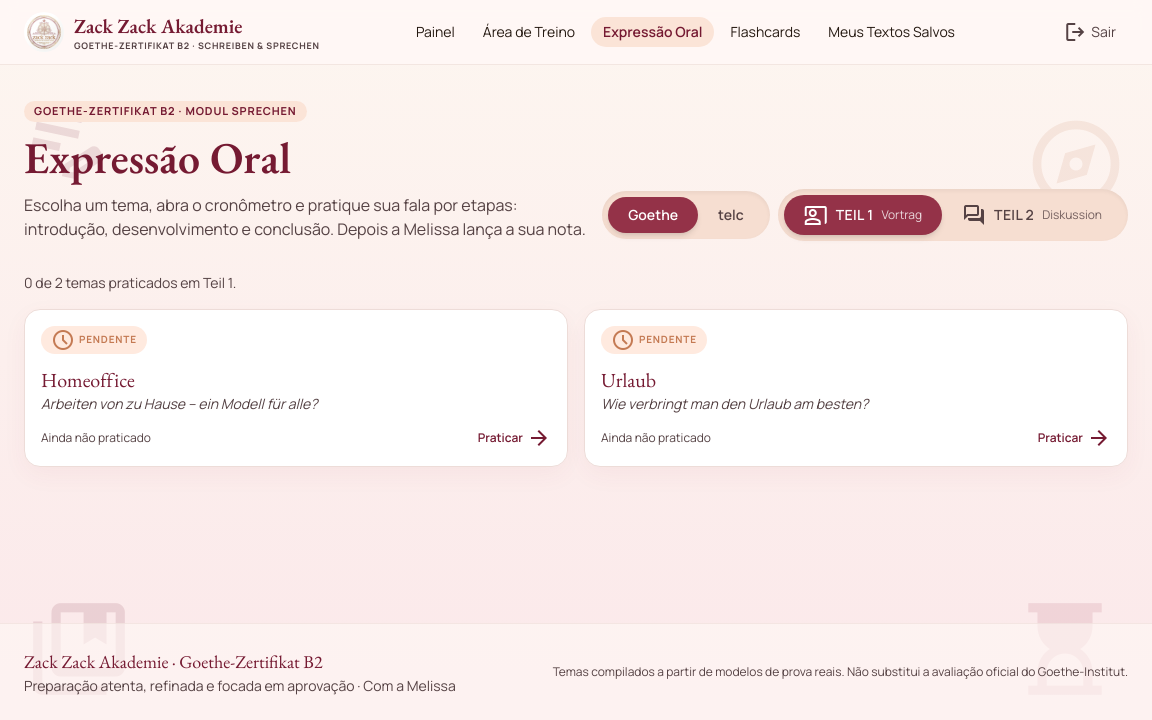
it: Sprechen › shows the Teil 2 topics and the score history of a topic
Click the radio button labelled "Teil 2 Diskussion" at point(1032, 214), box [942,194,1122,234]
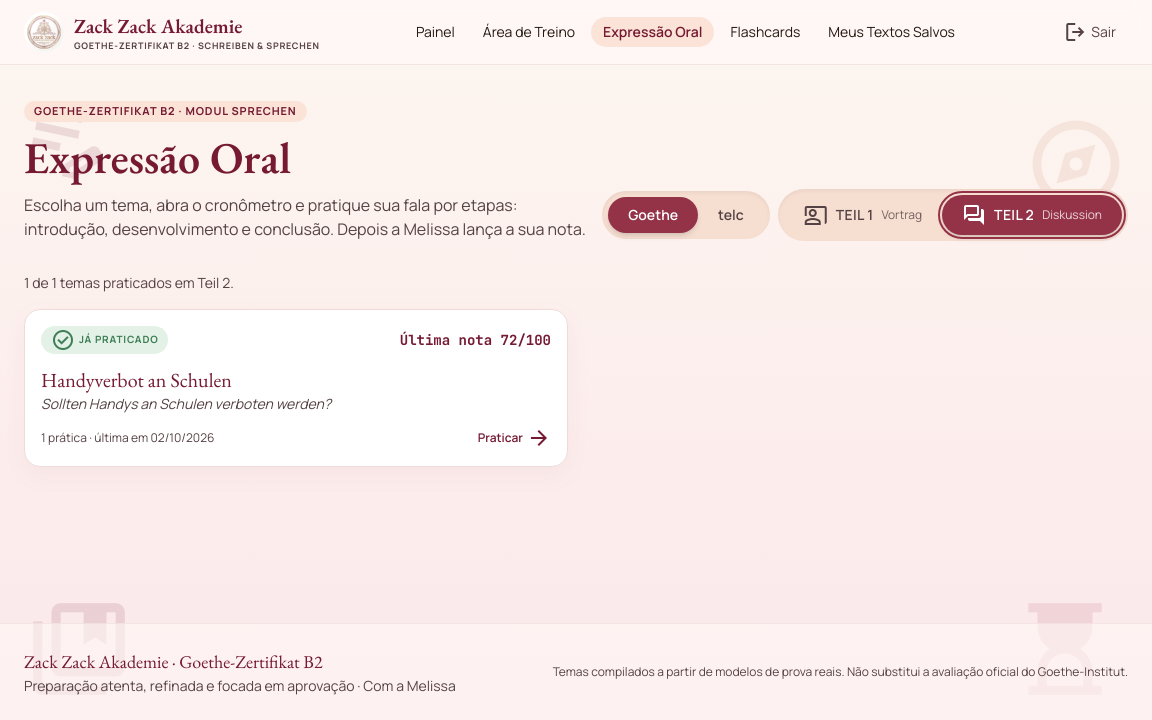
Result: the text "Já praticado" is shown at [41,326,168,354]
Result: the text "Última nota 72/100" is shown at [400,330,551,350]
Click the link "Handyverbot an Schulen" at point(105, 340), box [24,308,568,466]
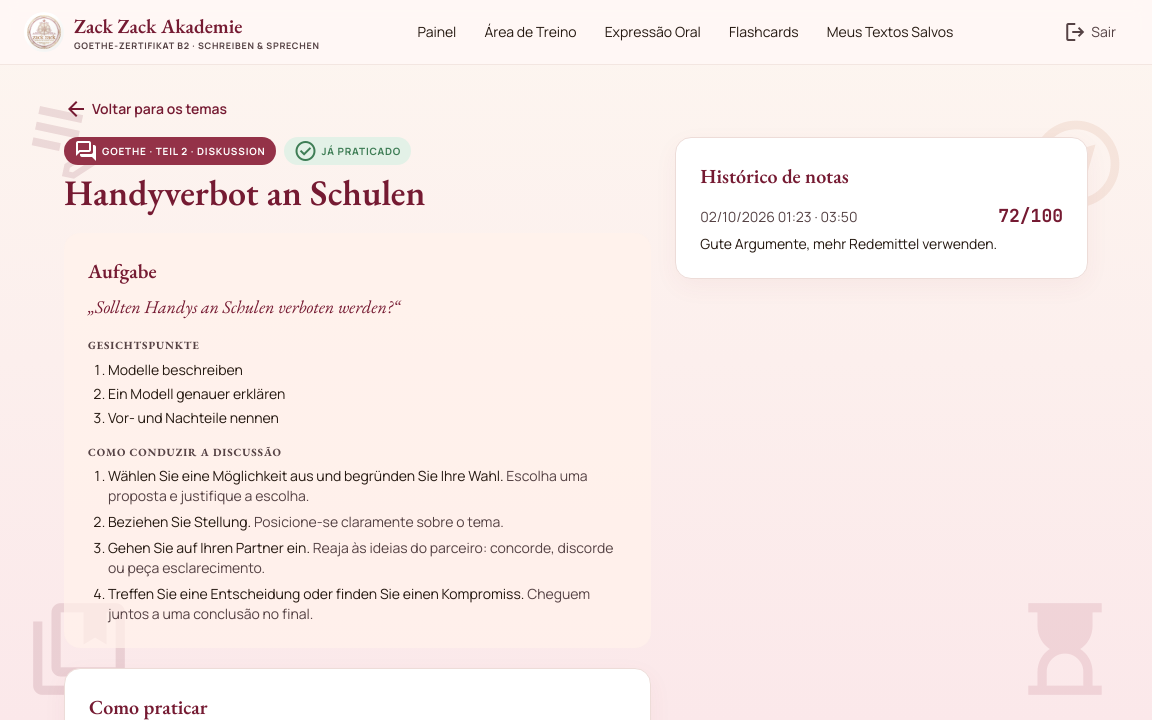
Result: the text "72/100" is shown at [998,202,1063,230]
Result: the text "Gute Argumente, mehr Redemittel verwenden." is shown at [700,234,997,253]
Result: the heading "Gesichtspunkte" is shown at [88,338,200,352]
